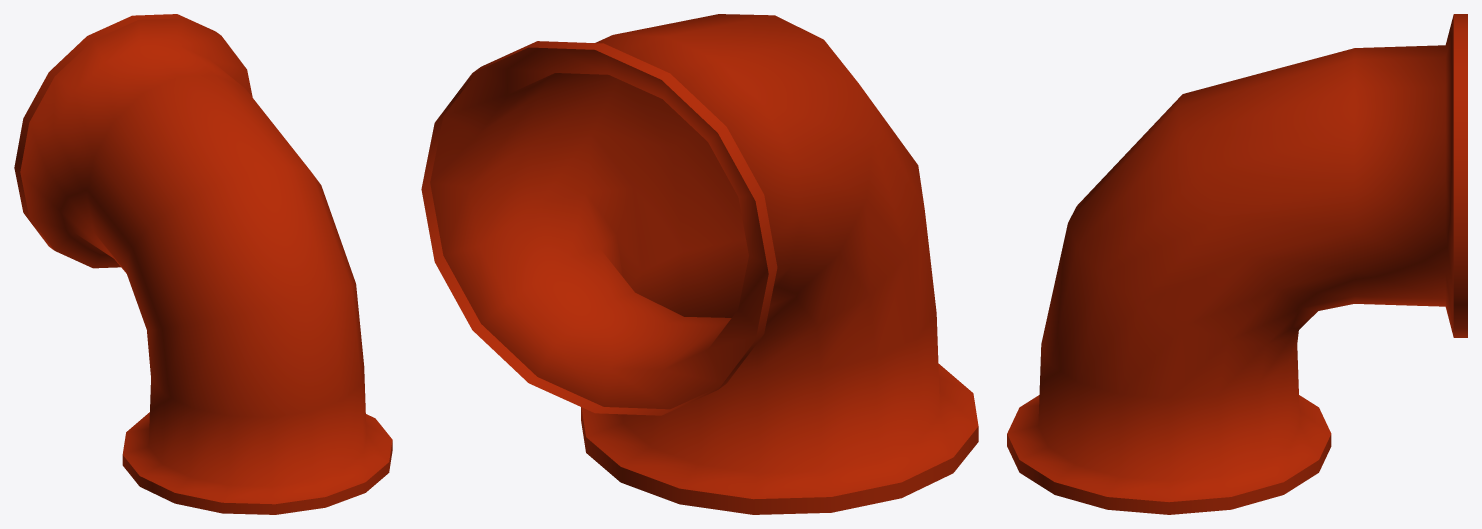
The model's file is Pipe_15_LOD0.FBX.
3 views of the same model, side by side, from view 1: azimuth 30°, elevation 25°; view 2: azimuth 150°, elevation 25°; view 3: azimuth 270°, elevation 25° (orthographic). The views are drawn at different scales.
Visible parts, largest first — view 1: Pipe_up1_015_LOD0; view 2: Pipe_up1_015_LOD0; view 3: Pipe_up1_015_LOD0.
Boxes of the visible parts, left/top/right/bottom form: Pipe_up1_015_LOD0: left=14, top=14, right=392, bottom=514; Pipe_up1_015_LOD0: left=421, top=14, right=978, bottom=514; Pipe_up1_015_LOD0: left=1007, top=14, right=1467, bottom=514.
Size of the model in its own units: 38 by 53.97 by 53.99.
